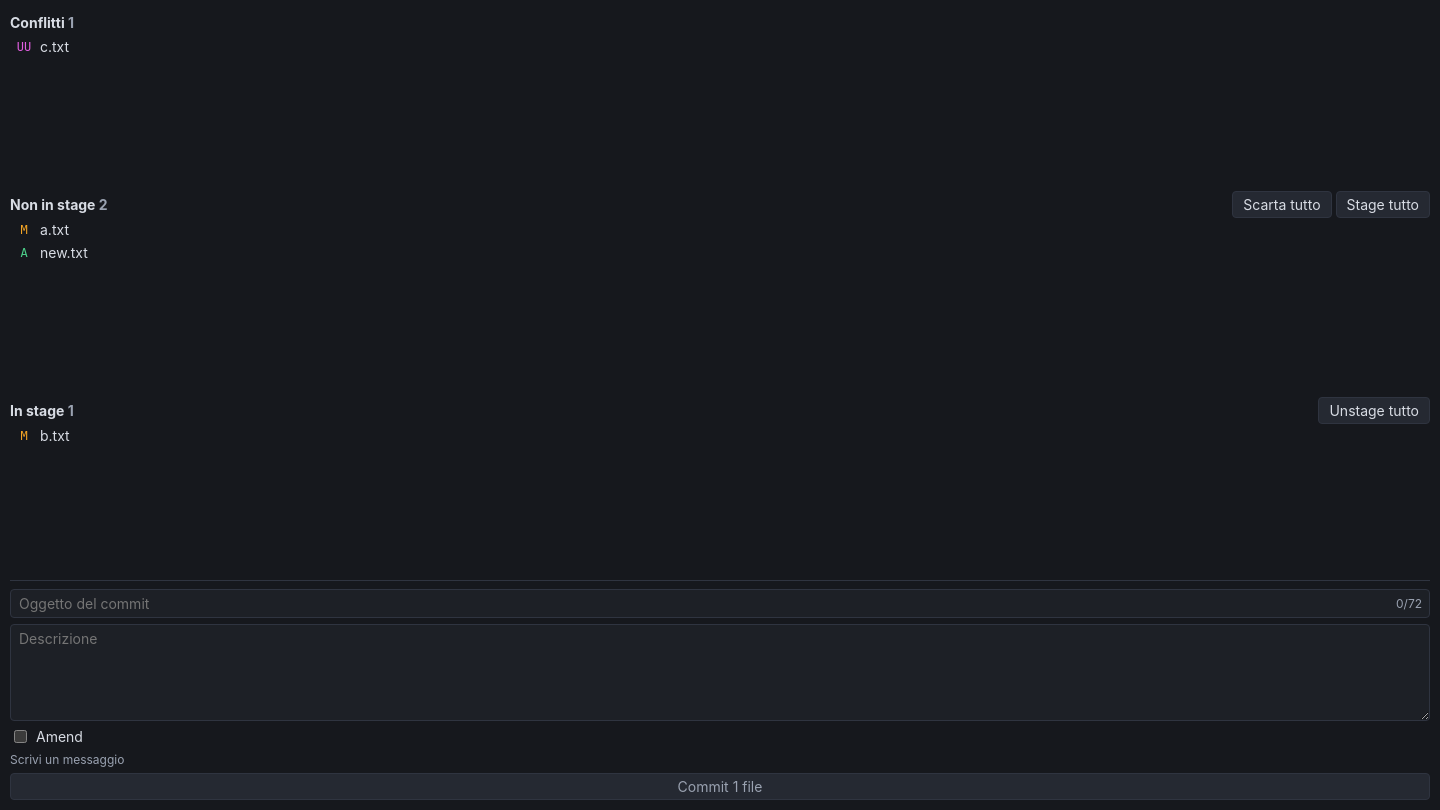
Test case: WipPanel › shows hook stderr when the commit is rejected, and keeps the message
The width and height of the screenshot is (1440, 810).
In the field labelled "Oggetto del commit": (720, 604) [10,589,1430,618], type "x"
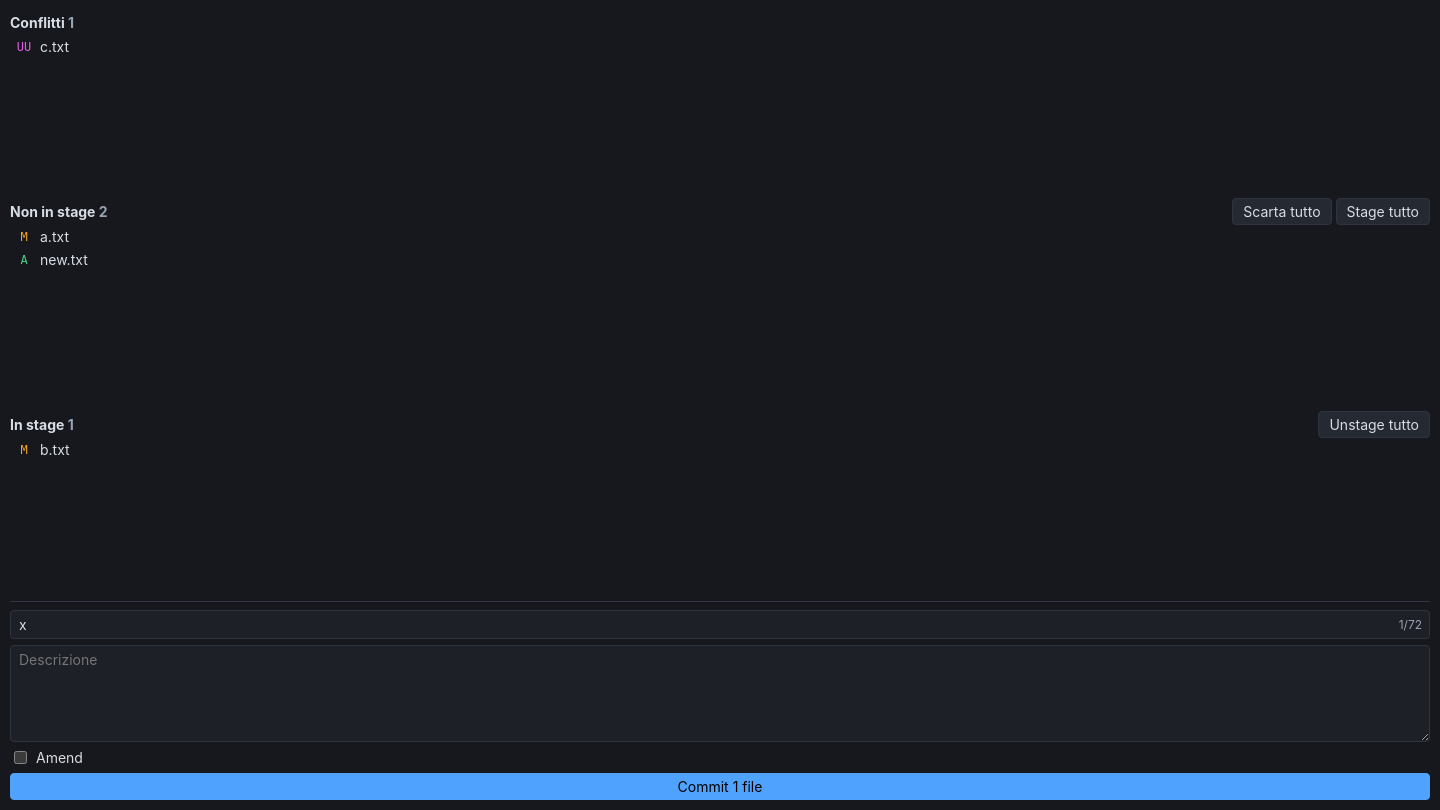
Click the button "Commit 1 file": (720, 786) [10,773,1430,800]
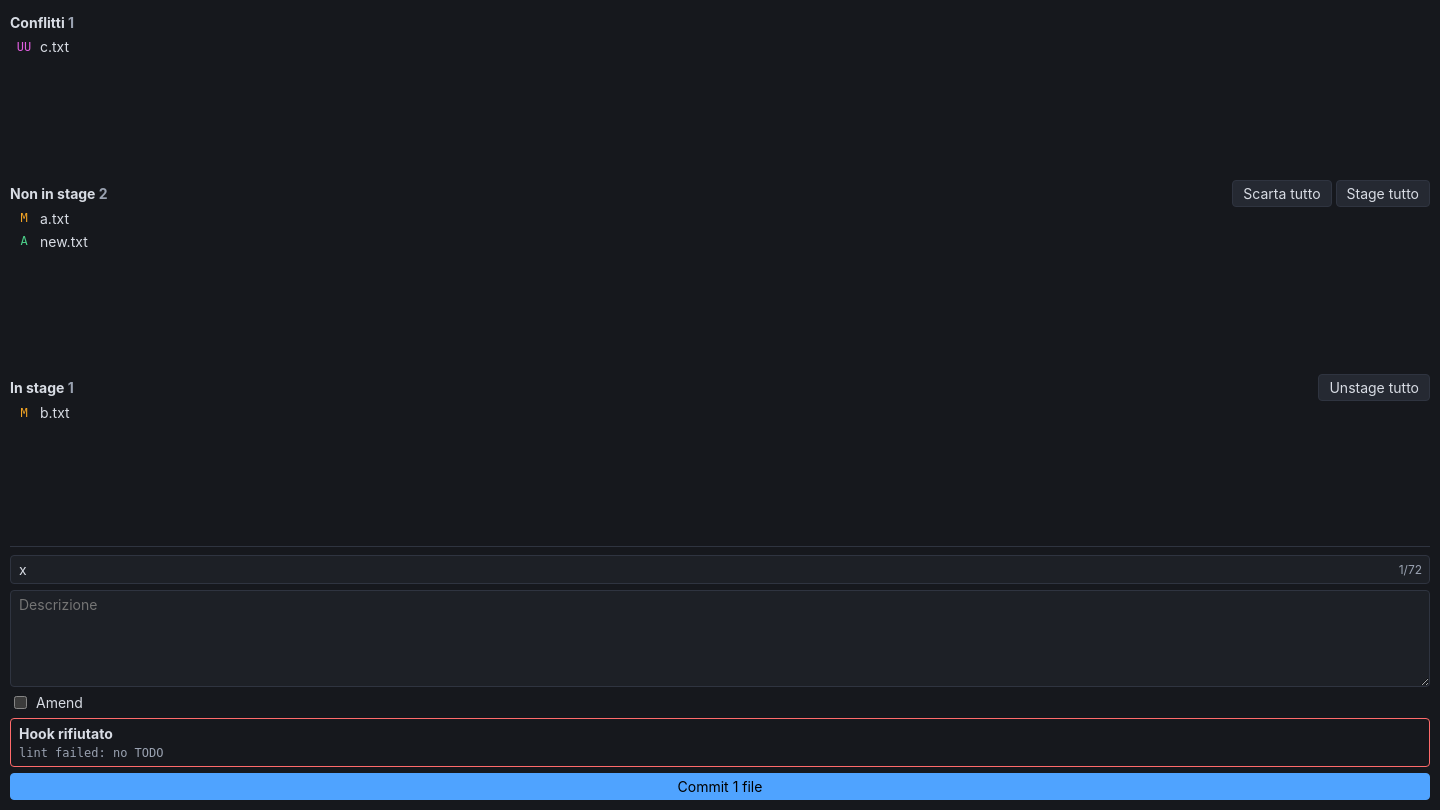
Now the message shows "lint failed: no TODO", box [19,746,164,760]
